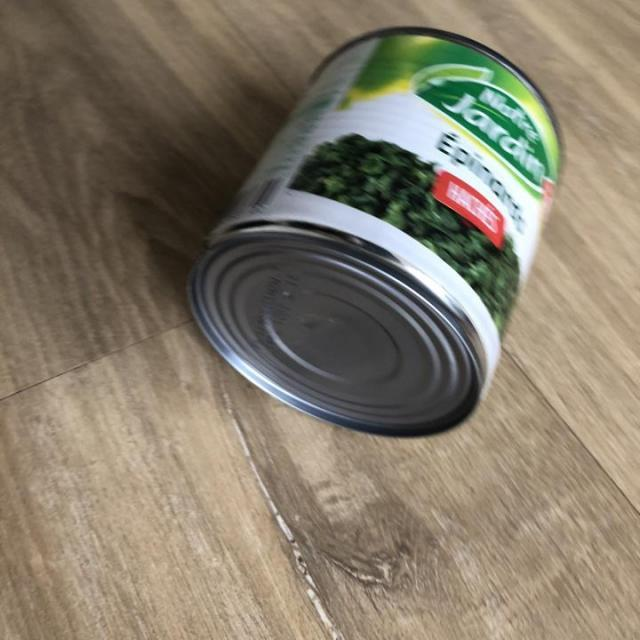metal-can: (183, 22, 570, 440)
